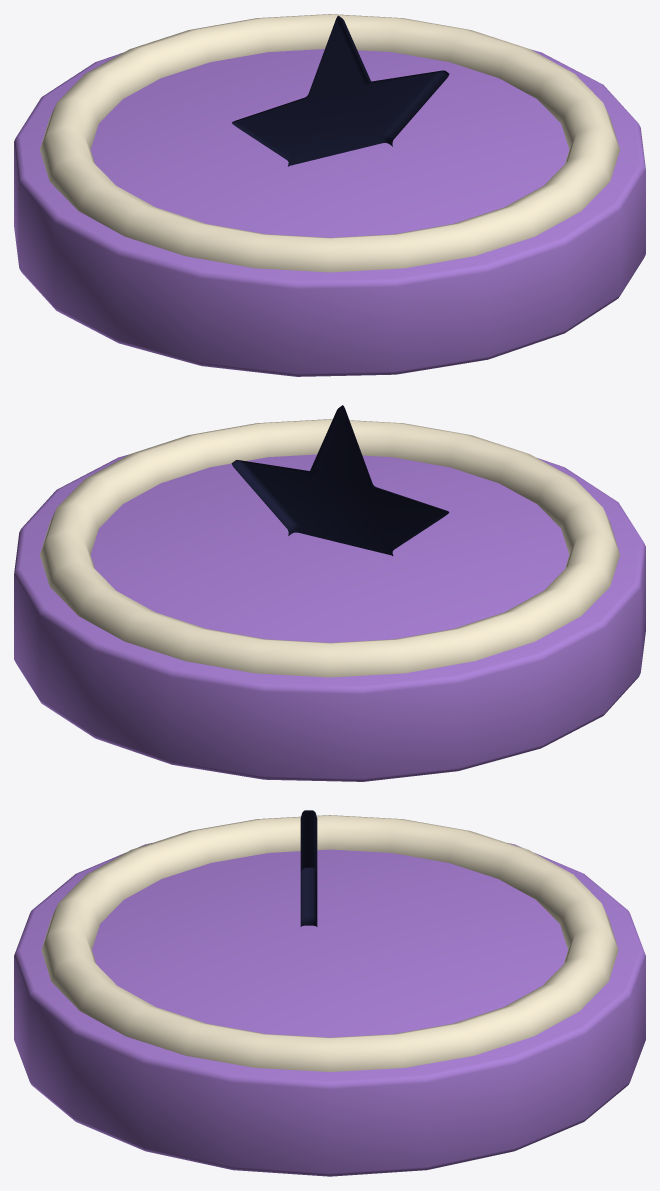
Rendered from r064_kart_vehicle_selection_pads_selection_pad_03.glb.
3 views of the same model, one above another, from view 1: azimuth 30°, elevation 25°; view 2: azimuth 150°, elevation 25°; view 3: azimuth 270°, elevation 25° (orthographic).
Parts seen in each view (by area): view 1: r064_kart_vehicle_selection_pads_selection_pad_03.001; view 2: r064_kart_vehicle_selection_pads_selection_pad_03.001; view 3: r064_kart_vehicle_selection_pads_selection_pad_03.001.
Boxes of the visible parts, x1,y1,x2,y2 form: r064_kart_vehicle_selection_pads_selection_pad_03.001: (14, 14, 645, 376); r064_kart_vehicle_selection_pads_selection_pad_03.001: (14, 405, 645, 781); r064_kart_vehicle_selection_pads_selection_pad_03.001: (14, 810, 645, 1176).
Bounding box in the file's own units: 3 × 1.23 × 3.
